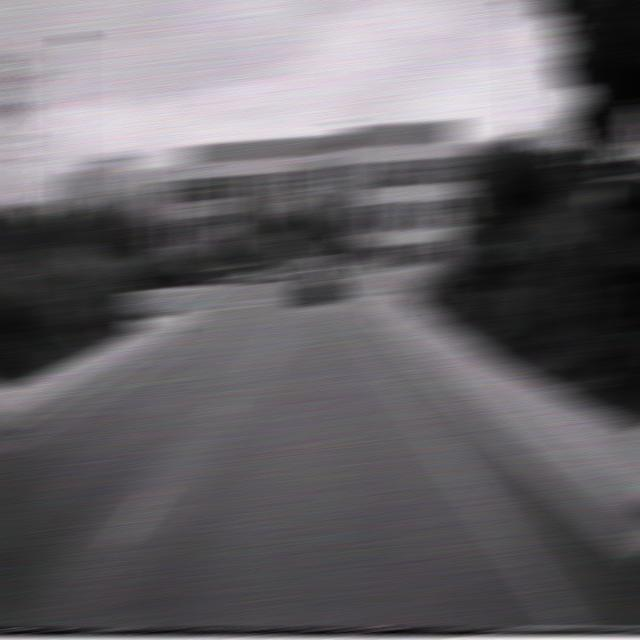stop_sign: (394, 196, 424, 225)
